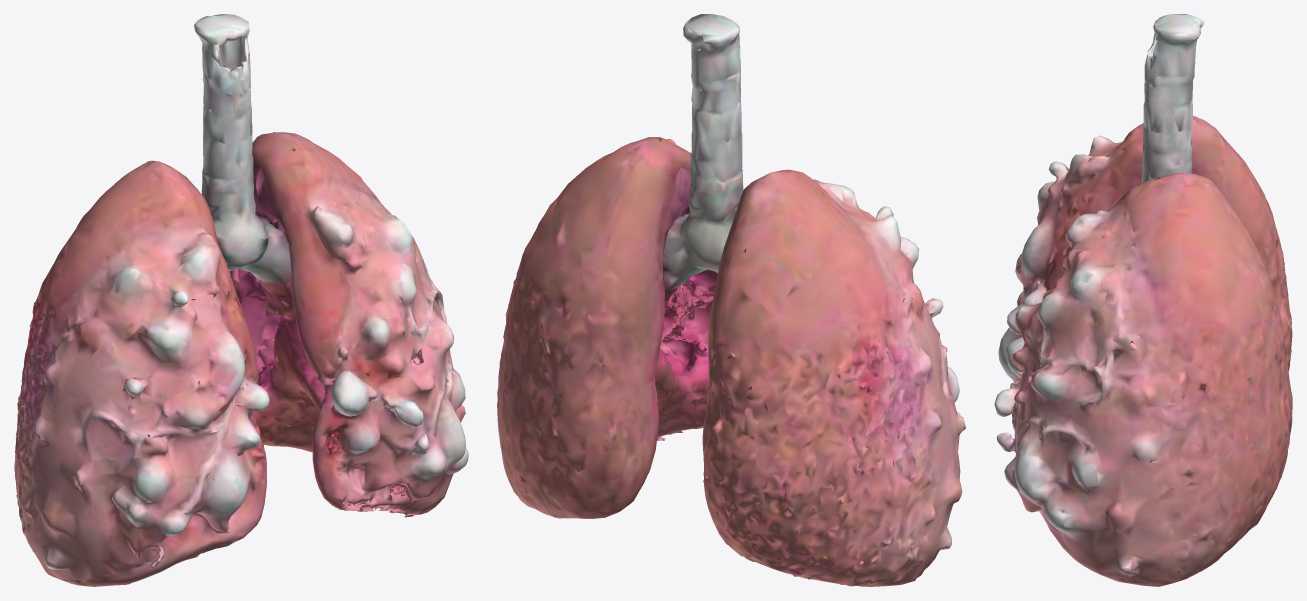
Rendered from lung-pneunomia.glb.
The picture shows the model from 3 angles, left to right: view 1: azimuth 30°, elevation 25°; view 2: azimuth 150°, elevation 25°; view 3: azimuth 270°, elevation 25°; orthographic projection. The views are drawn at different scales.
Parts seen in each view (by area): view 1: Lung; view 2: Lung; view 3: Lung.
Part boxes in pixels (x1,y1,x2,y2): Lung: [14, 14, 468, 586]; Lung: [497, 14, 965, 586]; Lung: [994, 14, 1292, 586].
Bounding box in the file's own units: 0.1741 × 0.1996 × 0.1126.
Materials: 1 (1 with a texture image).
